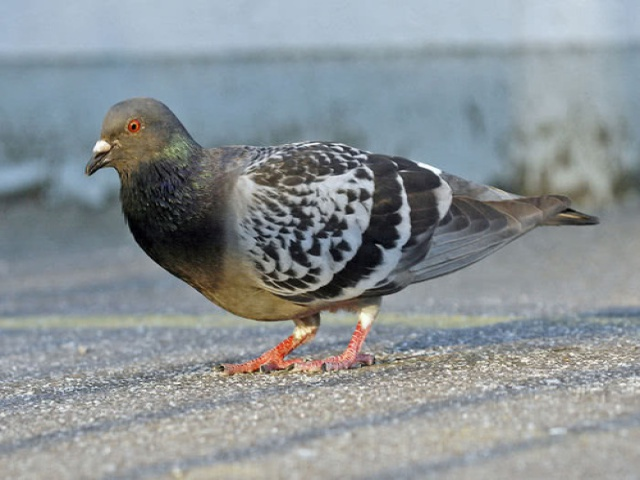Pigeon: (78, 89, 607, 379)
